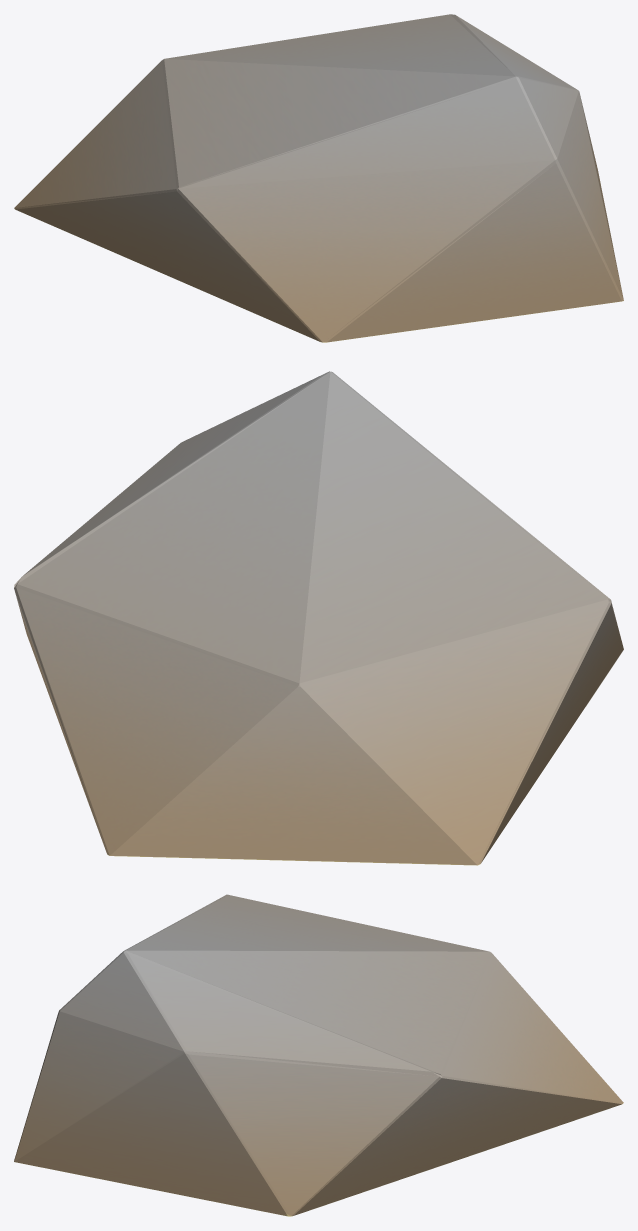
Rendered from Desert 2.fbx.
The picture shows the model from 3 angles, top to bottom: view 1: azimuth 30°, elevation 25°; view 2: azimuth 150°, elevation 25°; view 3: azimuth 270°, elevation 25°; orthographic projection. The views are drawn at different scales.
Visible parts, largest first — view 1: Desert rock 003; view 2: Desert rock 003; view 3: Desert rock 003.
Boxes of the visible parts, x1=… form: Desert rock 003: x1=14, y1=14, x2=623, y2=342; Desert rock 003: x1=14, y1=371, x2=623, y2=865; Desert rock 003: x1=14, y1=894, x2=623, y2=1216.
Size of the model in its own units: 3.44 by 1.34 by 3.94.
